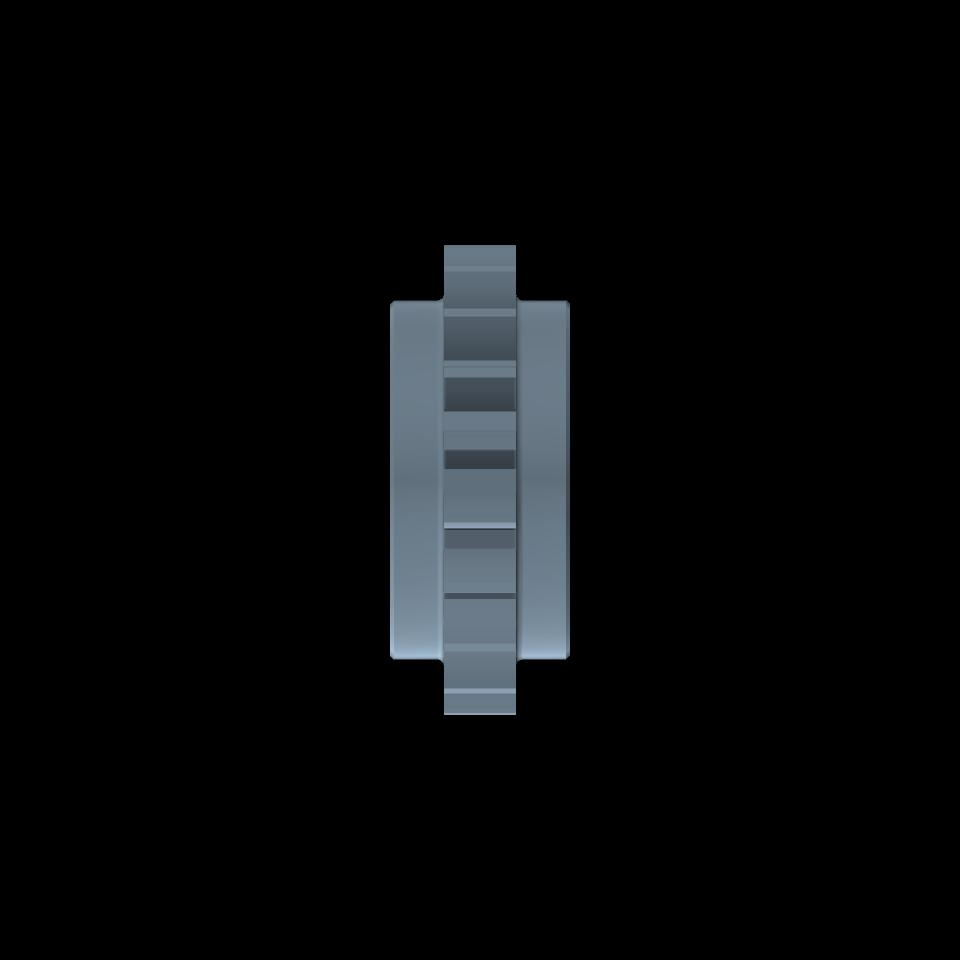Straight: (445, 246, 515, 715)
